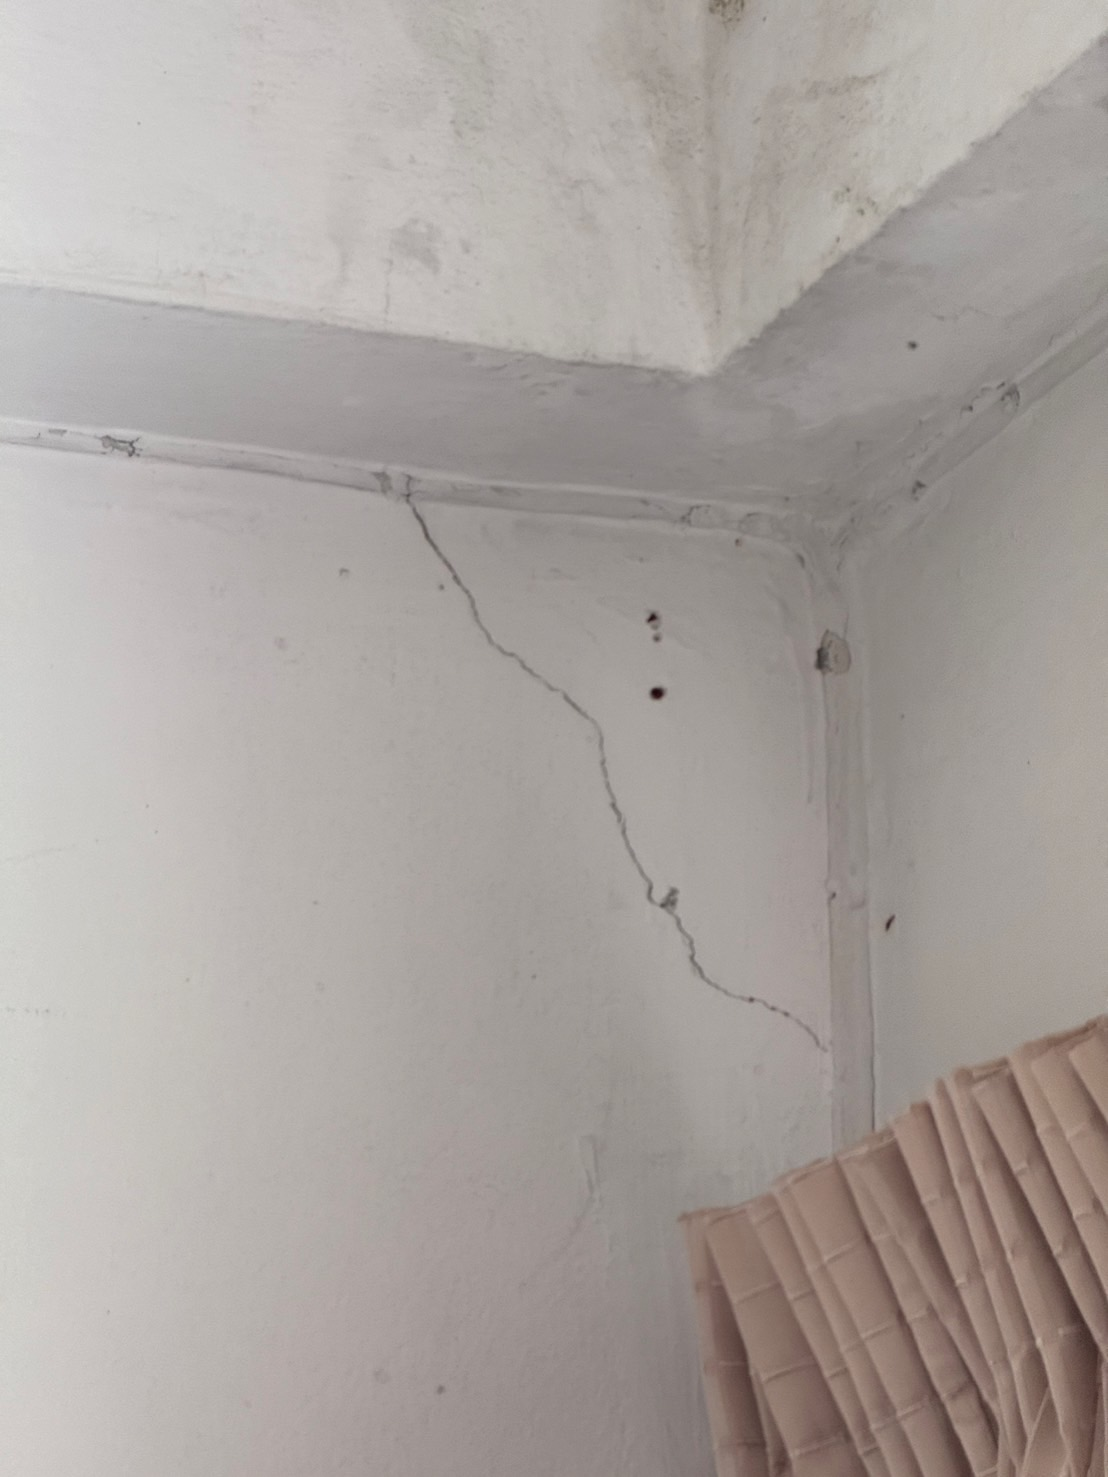Low: (388, 469, 880, 1105)
